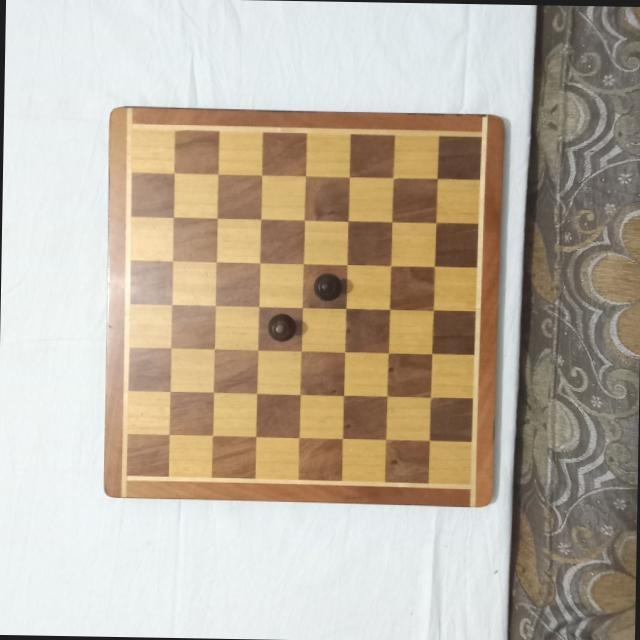black-pawn: (264, 310, 295, 343), (312, 268, 344, 299)
